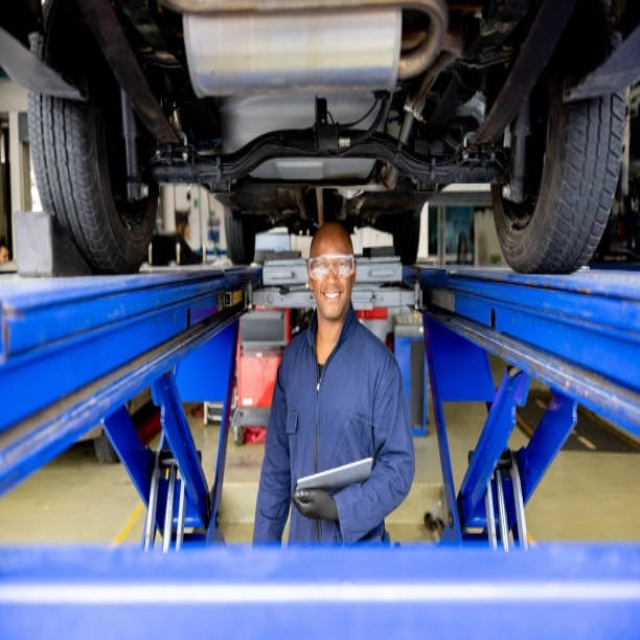Gafas: (308, 254, 356, 280)
Guantes: (291, 482, 337, 522)
Sin_mascara: (319, 284, 341, 315)
